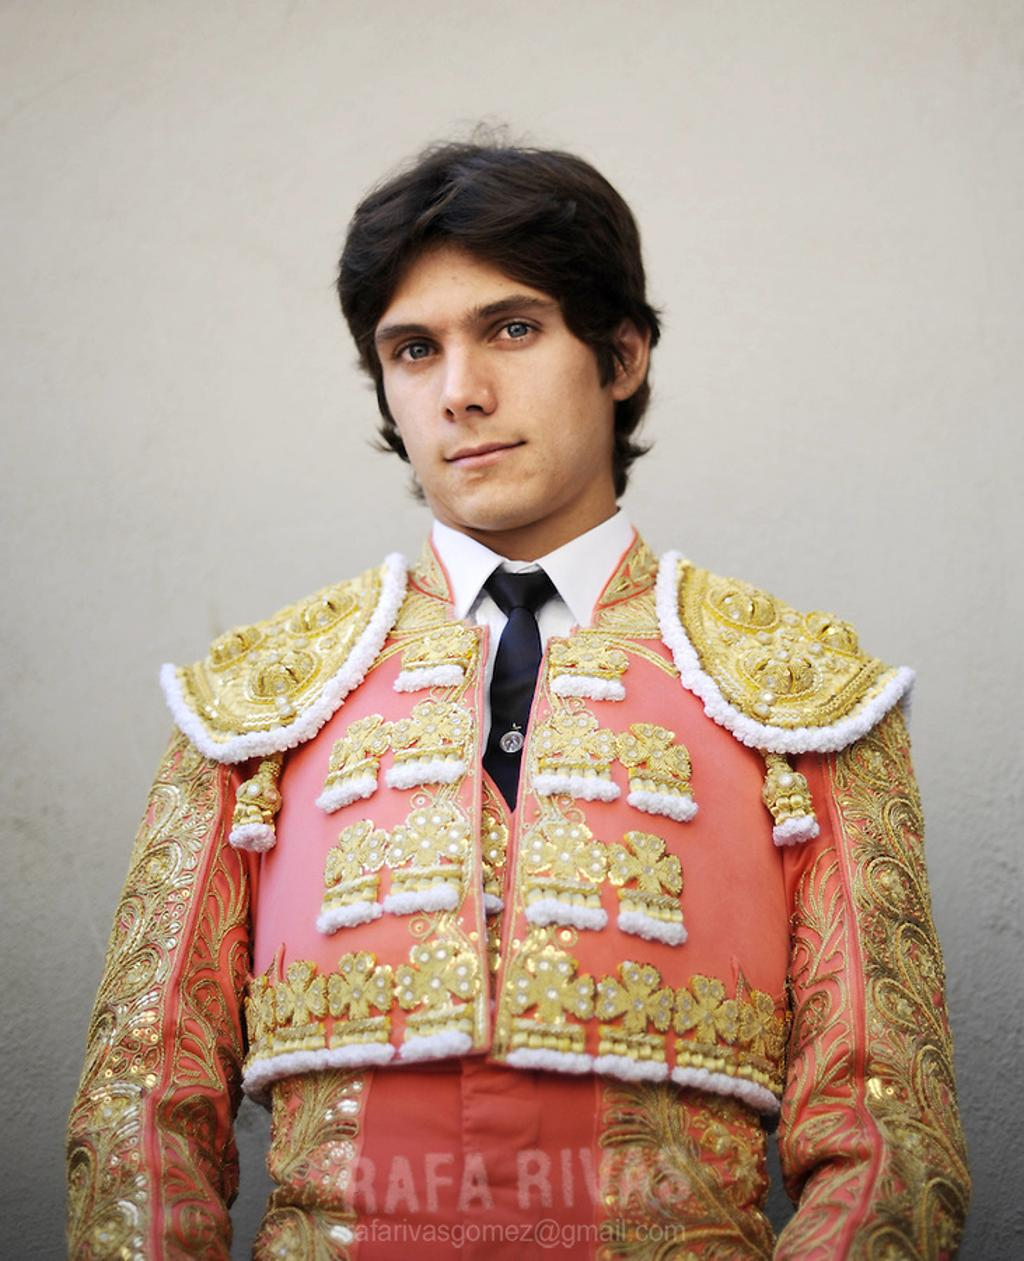face: (382, 273, 599, 512)
